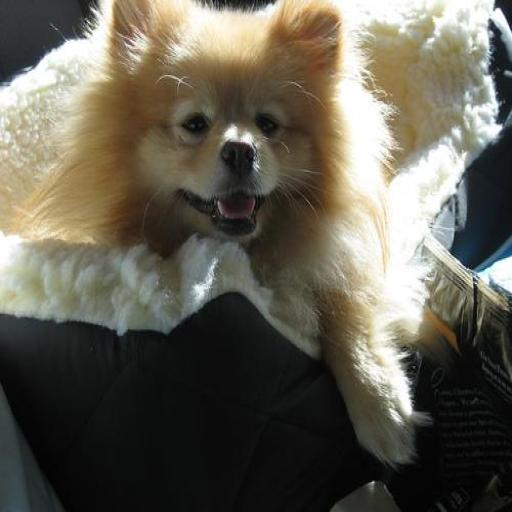dog_face: (104, 1, 330, 250)
